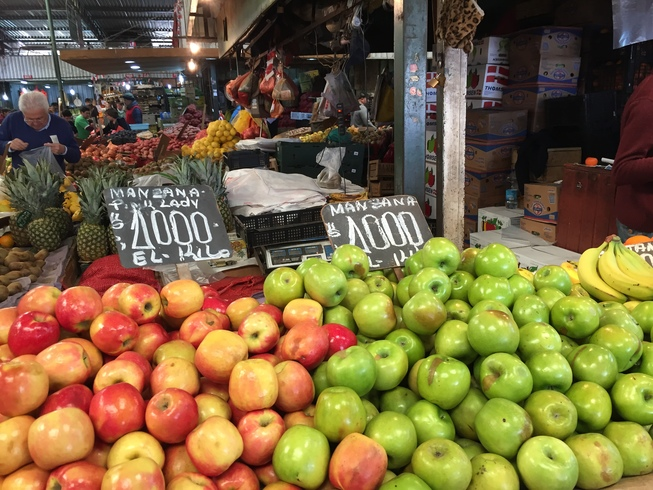precio: (106, 186, 235, 273), (323, 192, 436, 274)
